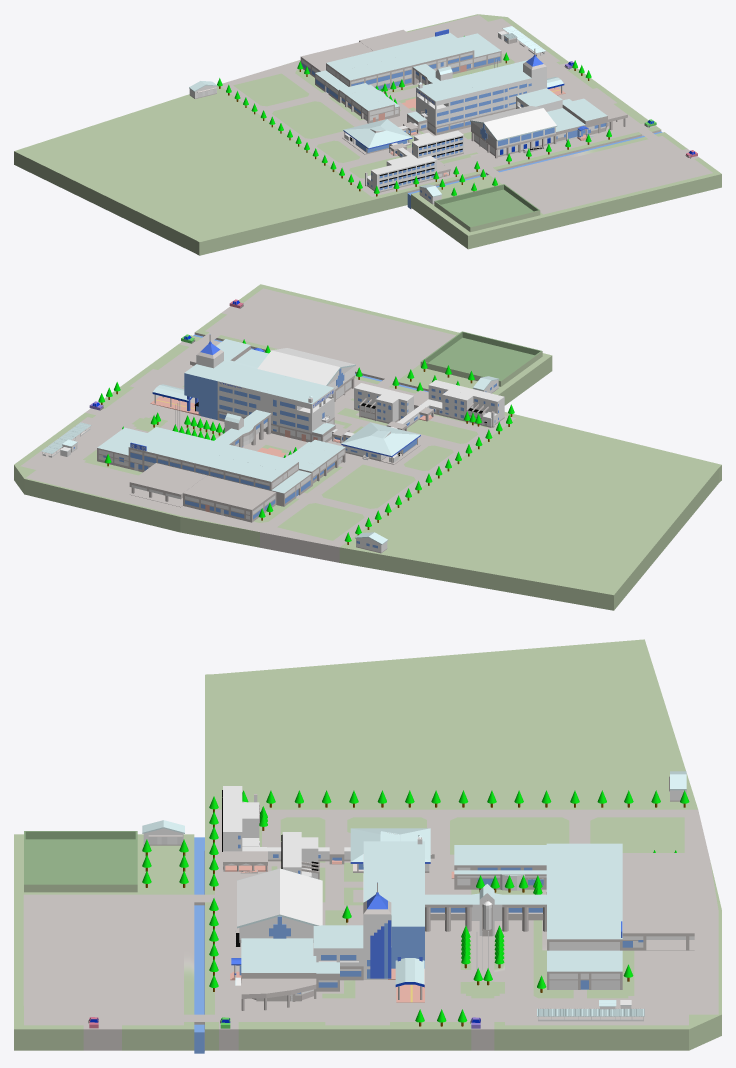
3 views of the same model, one above another, from view 1: azimuth 30°, elevation 25°; view 2: azimuth 150°, elevation 25°; view 3: azimuth 270°, elevation 25° (orthographic). The views are drawn at different scales.
Parts seen in each view (by area): view 1: 地面ども.001, 立方体.031, 体育館屋根, 立方体.001, 学生寮・男子, 立方体.027, 立方体, 学生寮・女子, 立方体.021, 食堂・屋根・土台, 本校舎2F・土台.001, 立方体.003 (+14 smaller); view 2: 地面ども.001, 立方体.003, 立方体.021, 体育館屋根, 立方体.002, 立方体.026, 本校者・紺の部分, 立方体, 学生寮・女子, 立方体.031, 食堂・屋根・土台, 立方体.001 (+9 smaller); view 3: 地面ども.001, 体育館屋根, 立方体.002, 立方体.001, 立方体.003, 立方体.018, 立方体.026, 立方体.027, 立方体.019, 大教室, 本校者・紺の部分, 立方体.031 (+16 smaller).
Boxes of the visible parts, x1=… form: 地面ども.001: x1=14, y1=14, x2=721, y2=255; 立方体.031: x1=325, y1=56, x2=412, y2=101; 体育館屋根: x1=470, y1=106, x2=557, y2=141; 立方体.001: x1=339, y1=83, x2=399, y2=123; 学生寮・男子: x1=371, y1=155, x2=436, y2=192; 立方体.027: x1=401, y1=41, x2=474, y2=82; 立方体: x1=416, y1=93, x2=477, y2=126; 学生寮・女子: x1=412, y1=130, x2=463, y2=159; 立方体.021: x1=315, y1=47, x2=400, y2=92; 食堂・屋根・土台: x1=343, y1=119, x2=412, y2=149; 本校舎2F・土台.001: x1=477, y1=82, x2=517, y2=116; 立方体.003: x1=300, y1=42, x2=372, y2=77; 地面ども.001: x1=14, y1=284, x2=721, y2=610; 立方体.003: x1=183, y1=475, x2=276, y2=522; 立方体.021: x1=199, y1=454, x2=297, y2=506; 体育館屋根: x1=257, y1=348, x2=355, y2=385; 立方体.002: x1=129, y1=463, x2=206, y2=507; 立方体.026: x1=128, y1=437, x2=212, y2=473; 本校者・紺の部分: x1=184, y1=361, x2=239, y2=419; 立方体: x1=264, y1=395, x2=334, y2=433; 学生寮・女子: x1=354, y1=383, x2=413, y2=423; 立方体.031: x1=213, y1=444, x2=311, y2=495; 食堂・屋根・土台: x1=341, y1=422, x2=420, y2=457; 立方体.001: x1=286, y1=439, x2=345, y2=486; 地面ども.001: x1=14, y1=639, x2=721, y2=1053; 体育館屋根: x1=237, y1=868, x2=322, y2=928; 立方体.002: x1=622, y1=899, x2=694, y2=950; 立方体.001: x1=454, y1=845, x2=546, y2=889; 立方体.003: x1=622, y1=853, x2=688, y2=898; 立方体.018: x1=547, y1=950, x2=622, y2=989; 立方体.026: x1=584, y1=892, x2=622, y2=950; 立方体.027: x1=547, y1=892, x2=584, y2=950; 立方体.019: x1=363, y1=841, x2=424, y2=873; 大教室: x1=313, y1=925, x2=363, y2=966; 本校者・紺の部分: x1=391, y1=904, x2=424, y2=968; 立方体.031: x1=546, y1=843, x2=584, y2=894.
Size of the model in its own units: 74.75 by 10.35 by 57.31.
29 materials, 15 textured.
